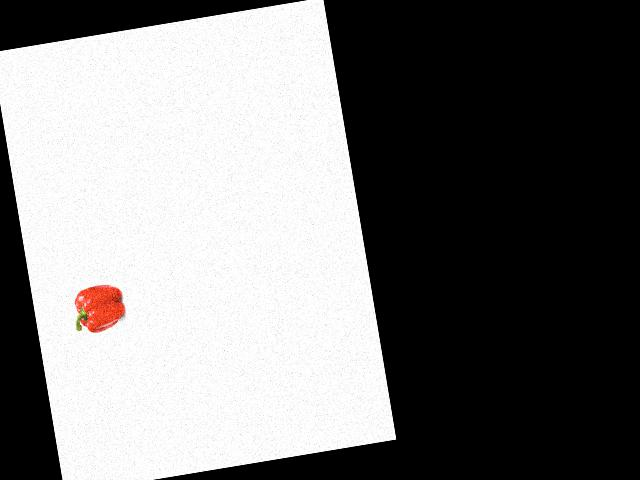bell_pepper: (68, 280, 129, 336)
